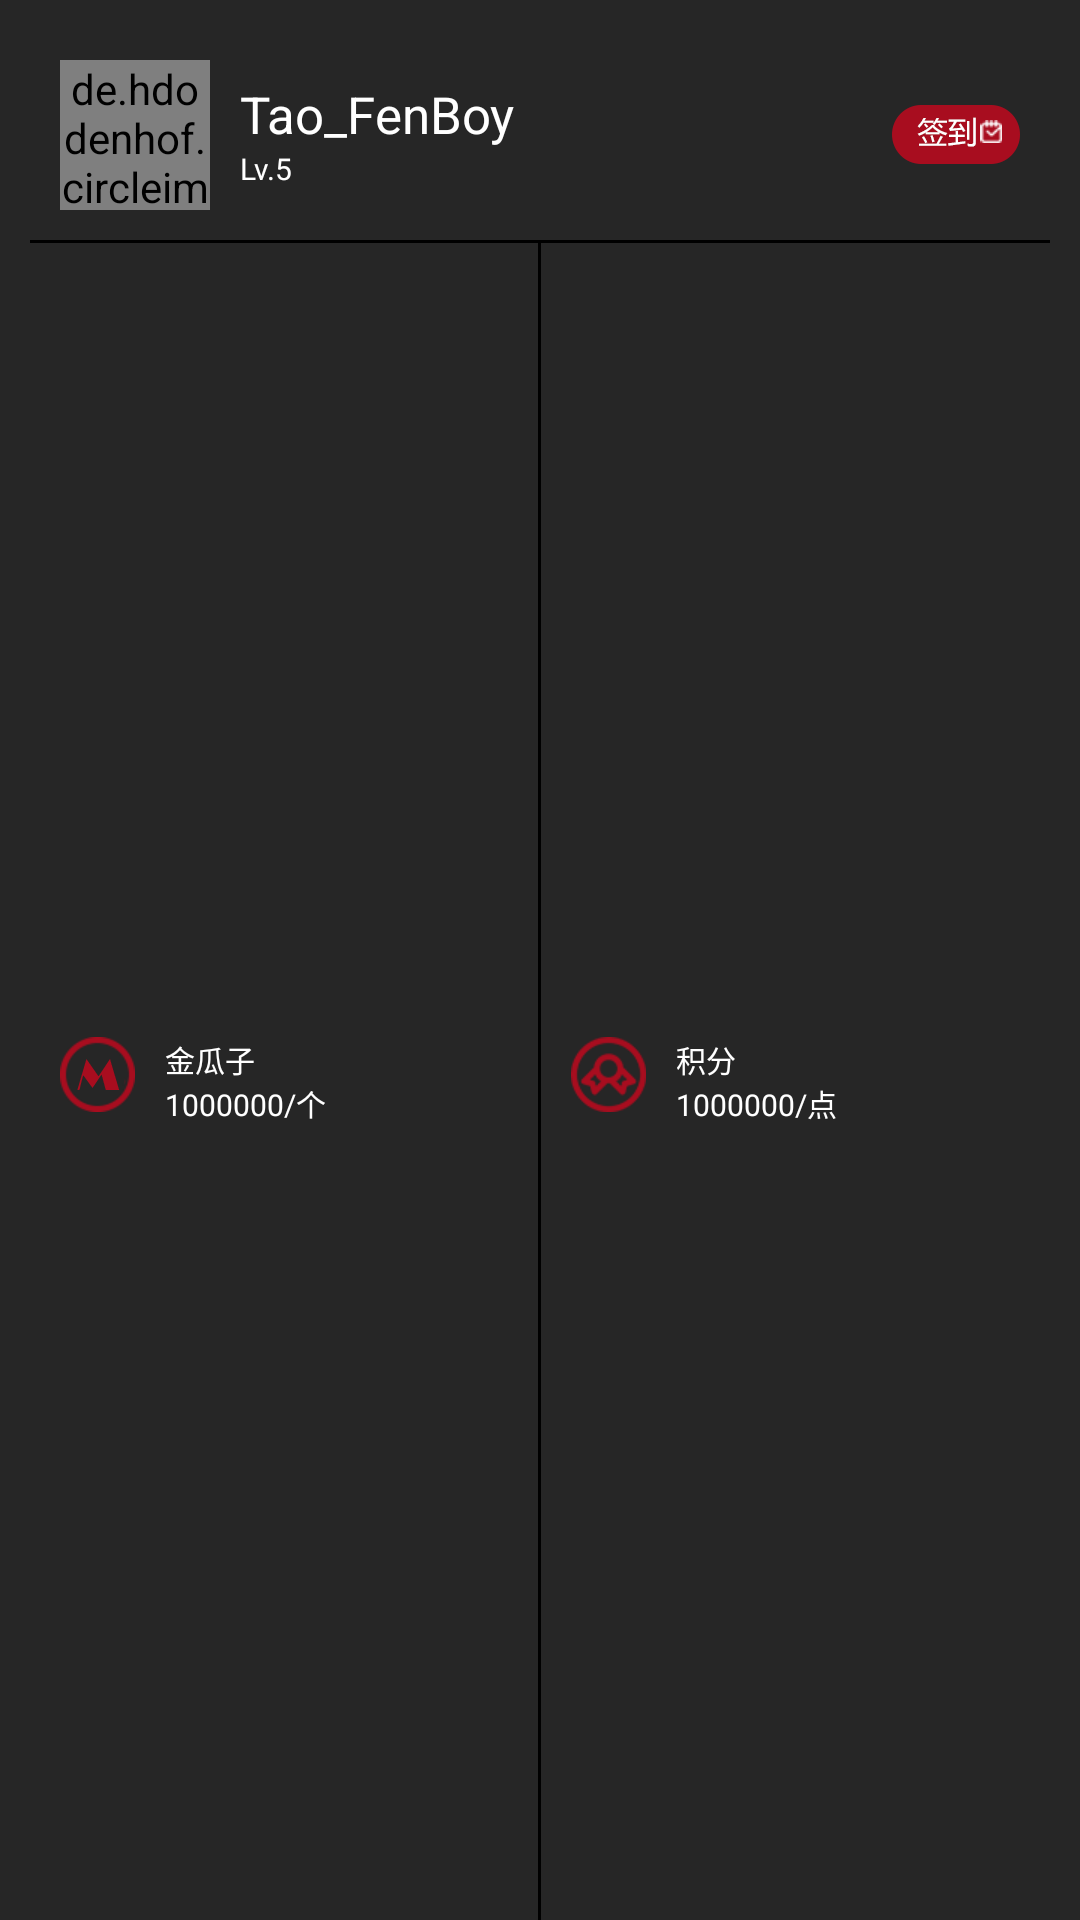

Named icons in this screenshot (1080*1920) and their centers, (x=x, y=y):
prize: (x=608, y=1074)
